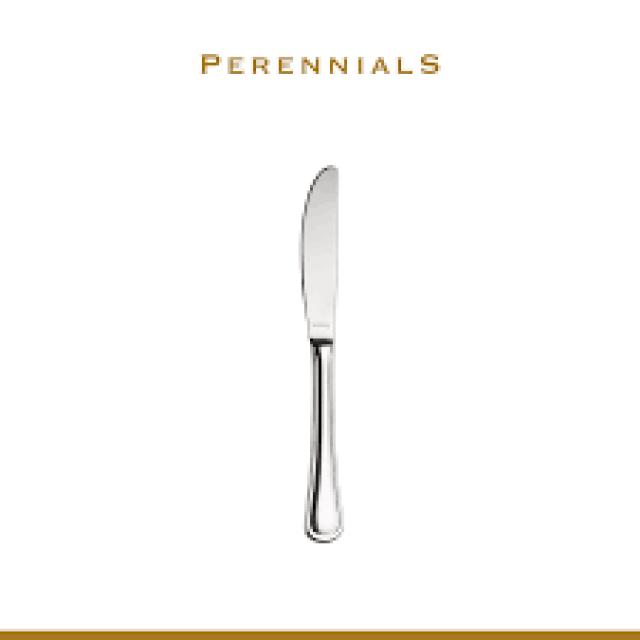Knife: (299, 165, 341, 543)
